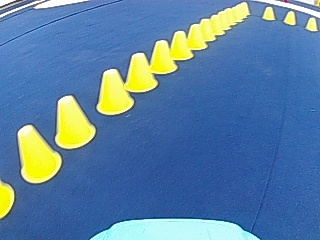cone: (16, 124, 61, 183), (53, 93, 95, 149), (95, 67, 134, 114), (124, 50, 156, 92), (149, 39, 176, 73), (169, 30, 193, 59), (0, 180, 15, 218), (190, 21, 211, 45), (186, 24, 206, 49), (198, 19, 214, 42), (208, 14, 223, 35), (304, 17, 318, 32), (261, 6, 276, 20), (218, 10, 229, 28), (283, 10, 296, 25)
